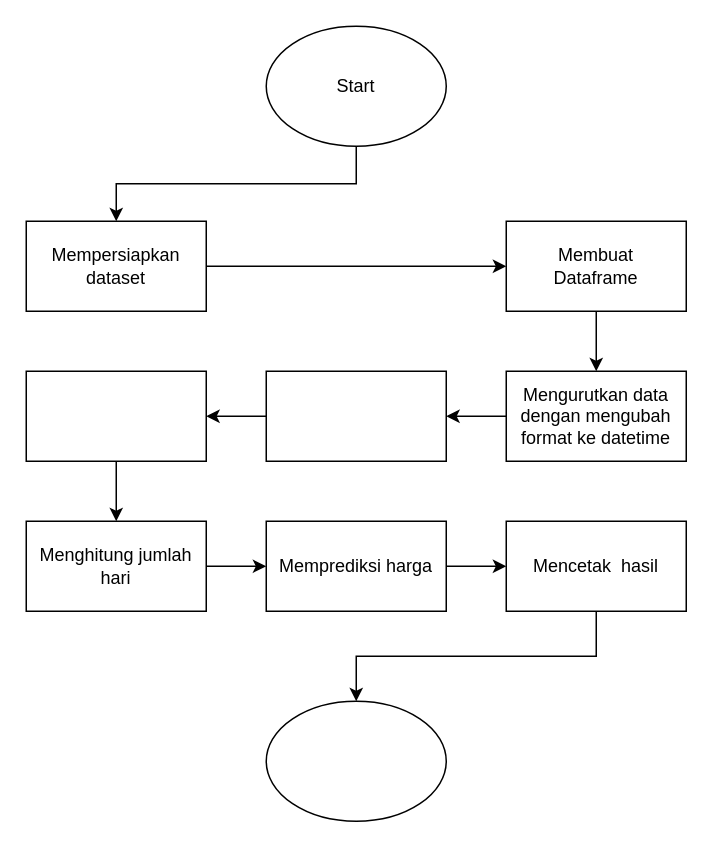
Some shapes in this 713 by 848 pixel diagram are drawn without their labels. The shapes that lost their labels are listed below. From the top down, each one's box as (x1, y1, x2, y2) in pixels, then its label:
(25, 370, 206, 461): Membuat dan melatih model regresi linear
(265, 370, 446, 461): Membuat kolom Days
(265, 700, 446, 821): End
